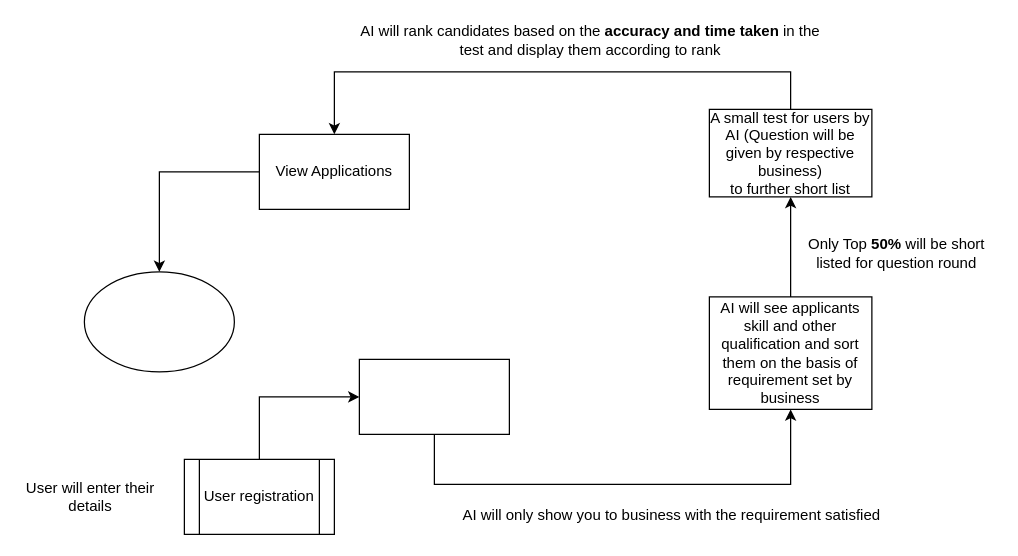
Image size: 1018x556. Some labels were removed from this diagram. Each missing label, with the box of its shape:
Business Owner: (83, 271, 234, 372)
User: (358, 358, 509, 434)
